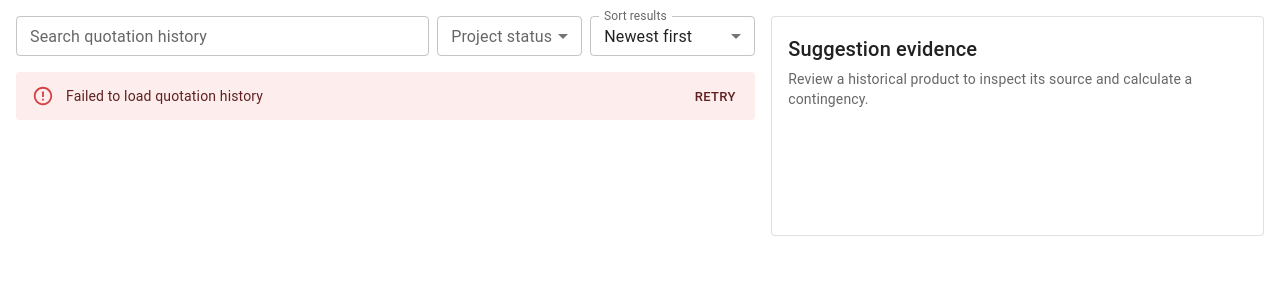
Test case: keeps a retryable search error inside the tab
The width and height of the screenshot is (1280, 291).
Expected: the text "Failed to load quotation history" is shown, [66,88,263,104]
Click the button "Retry".
click(715, 97)  # box [683,82,747,113]
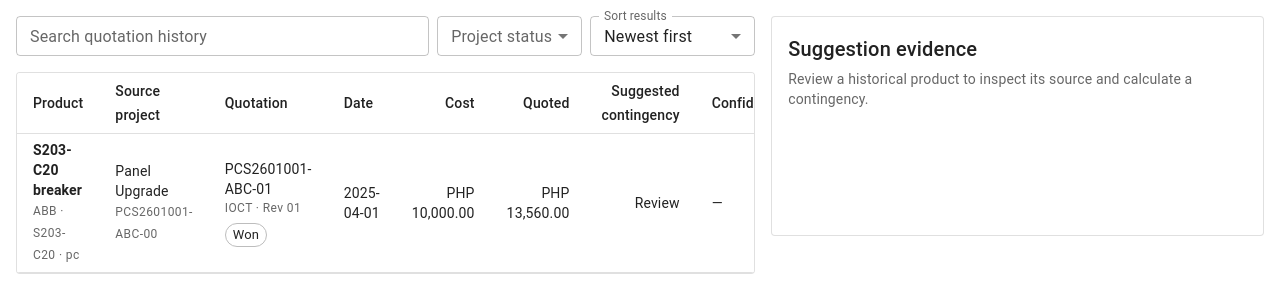
Expected: the text "Panel Upgrade" is shown, [115,163,169,199]
